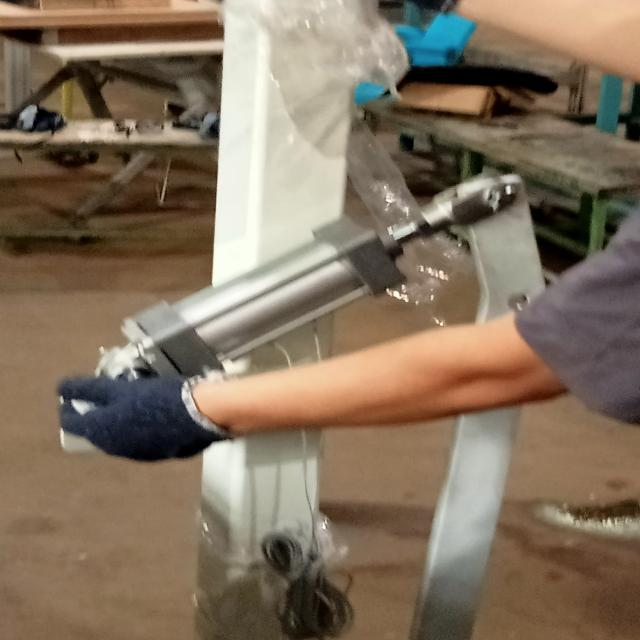Gloves-Detection: (50, 370, 220, 467)
